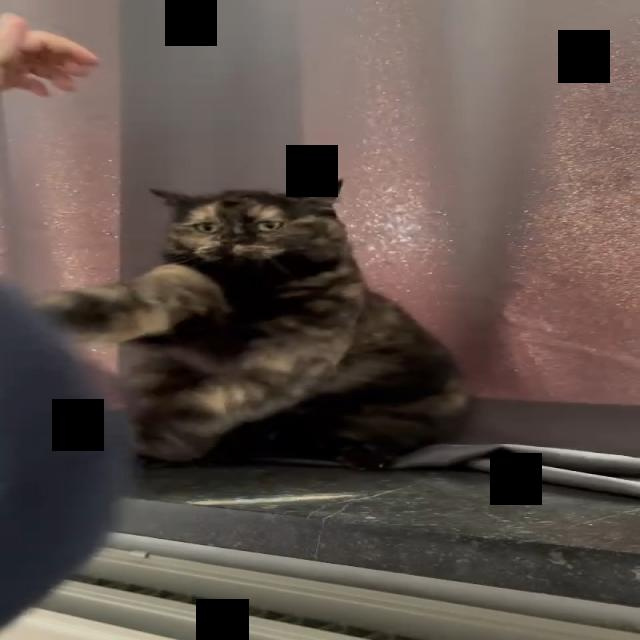authorized: (35, 178, 472, 470)
